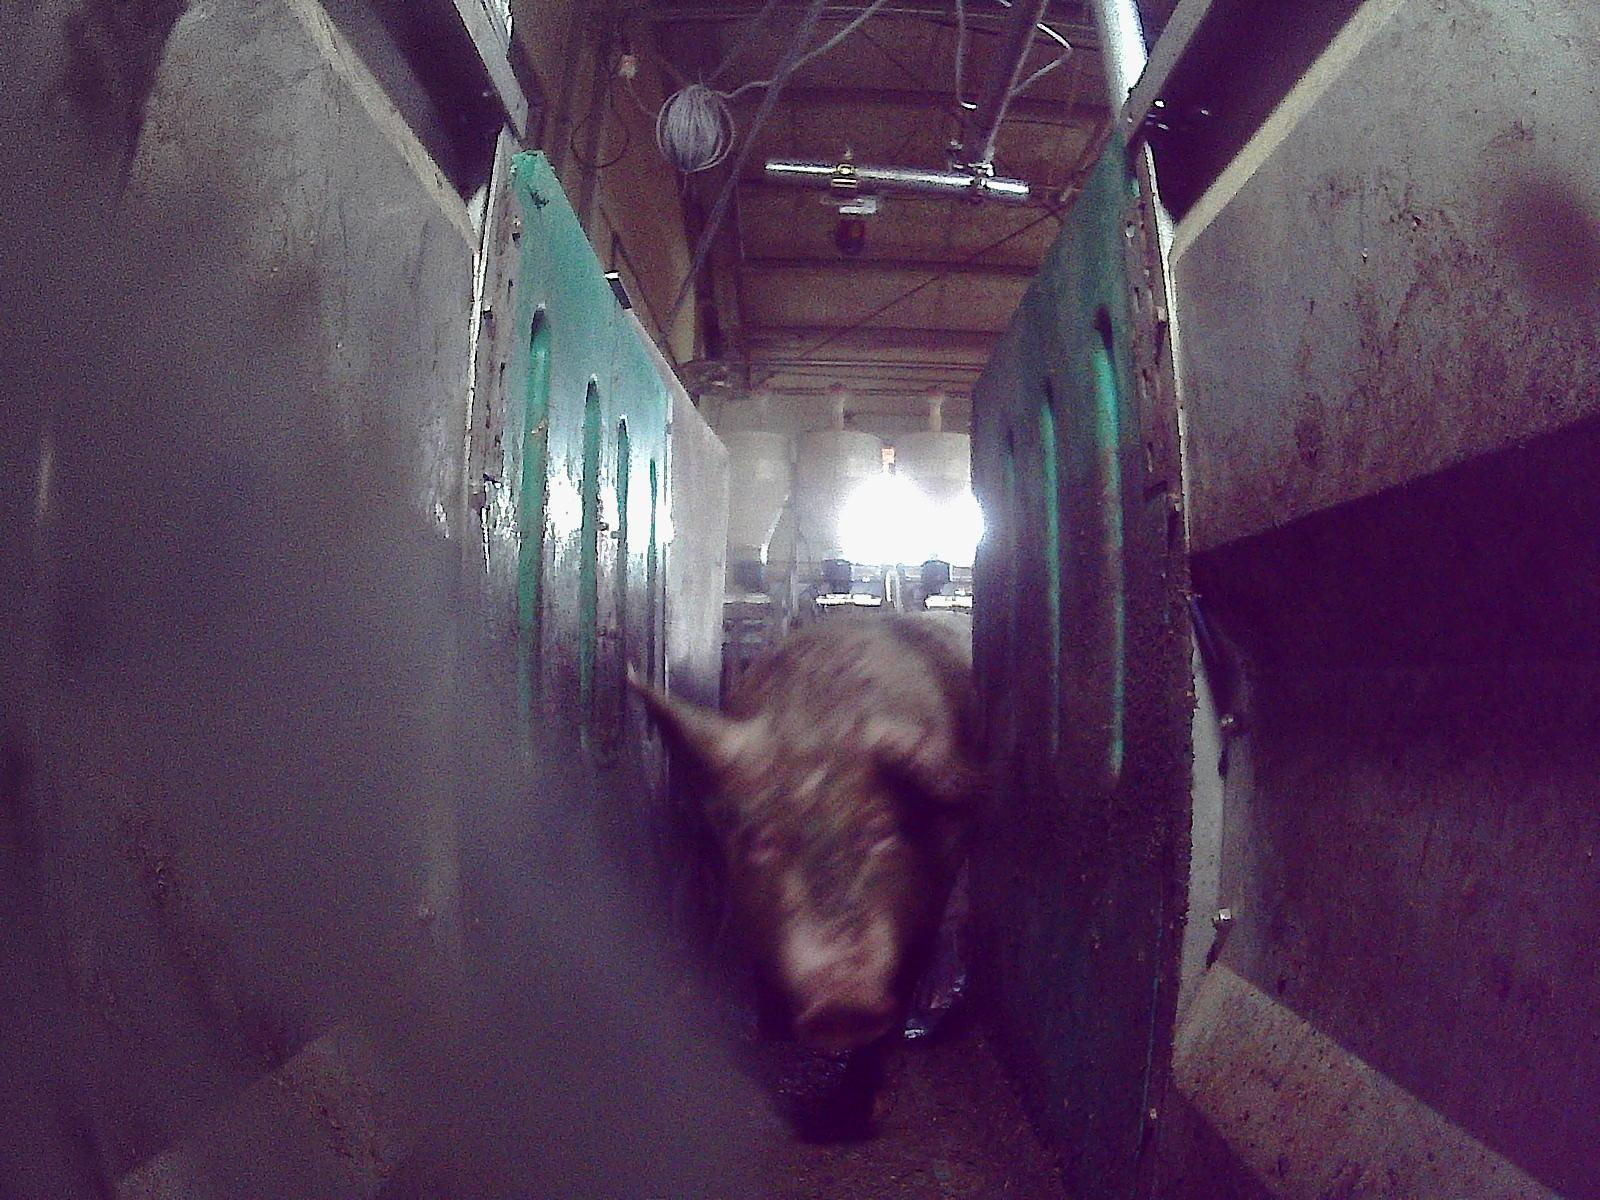Face: (704, 709, 928, 1049)
